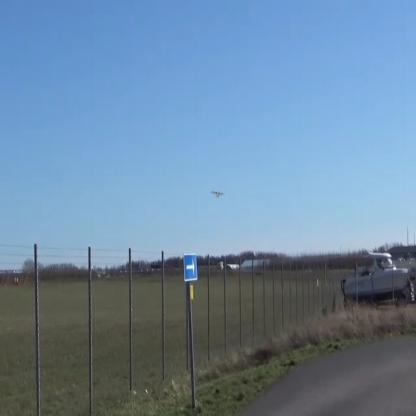CIV_Plane: (208, 183, 225, 205)
